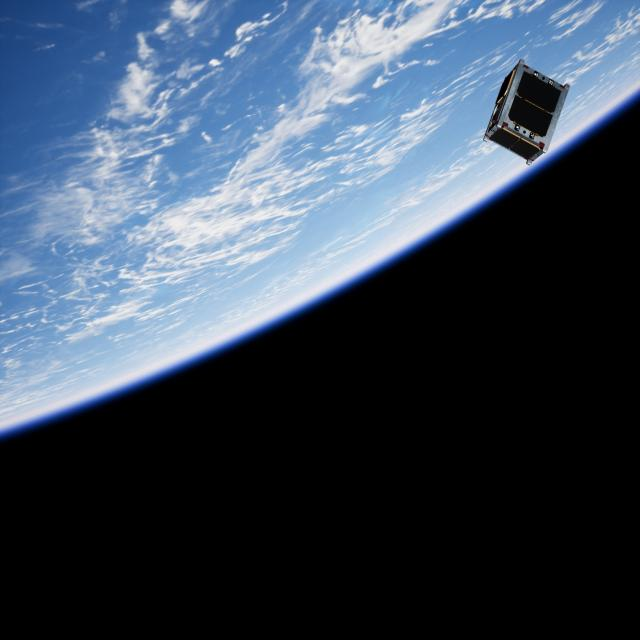medium_debris: (478, 56, 578, 162)
